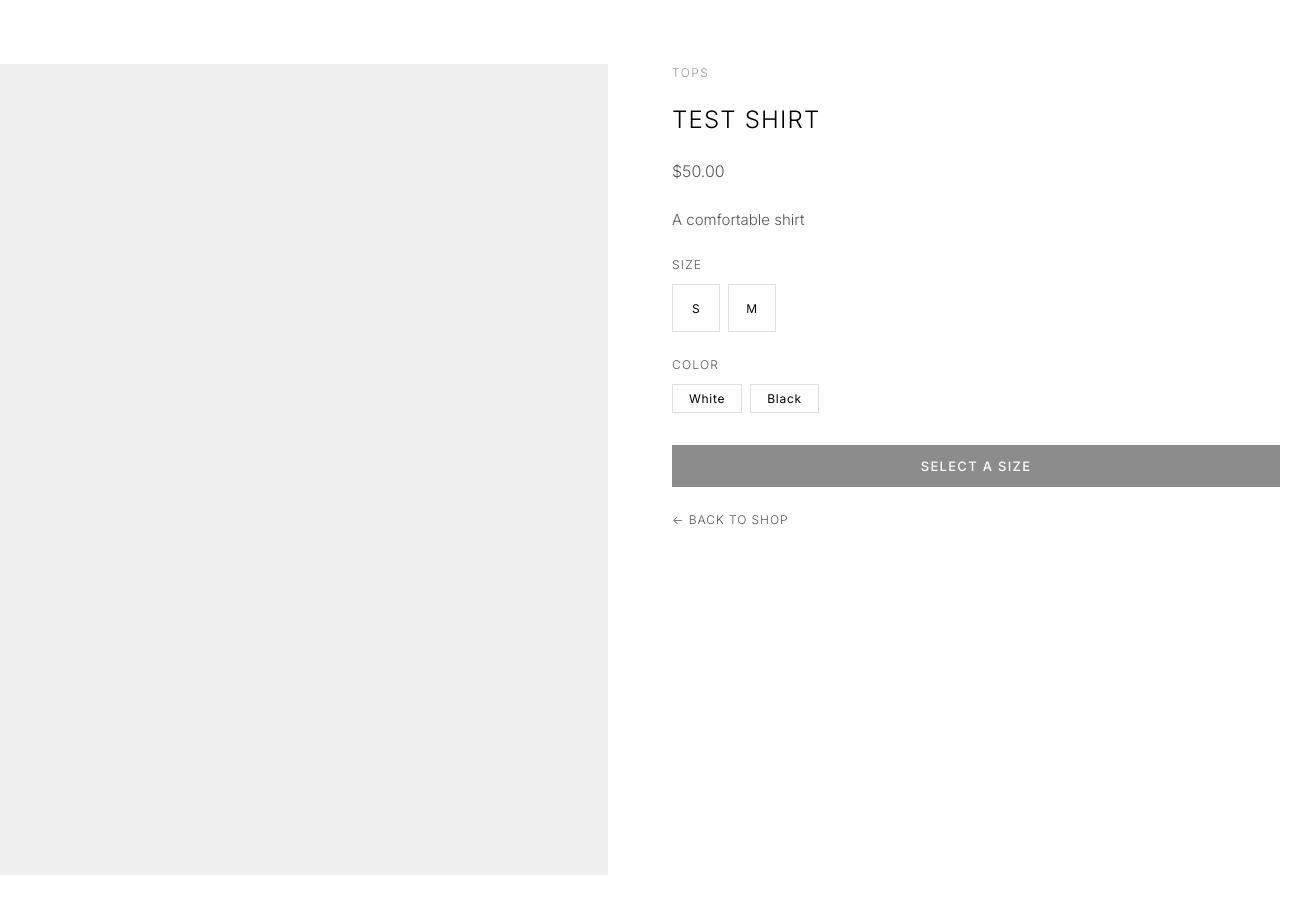
Test case: ProductDetail — add-to-cart button label › shows "Unavailable" when selected size+color combo is sold out
expect the heading "Test Shirt" is shown: met, box [672,105,820,134]
Click the button named "size s". click: (696, 308)
box: [672,284,720,332]
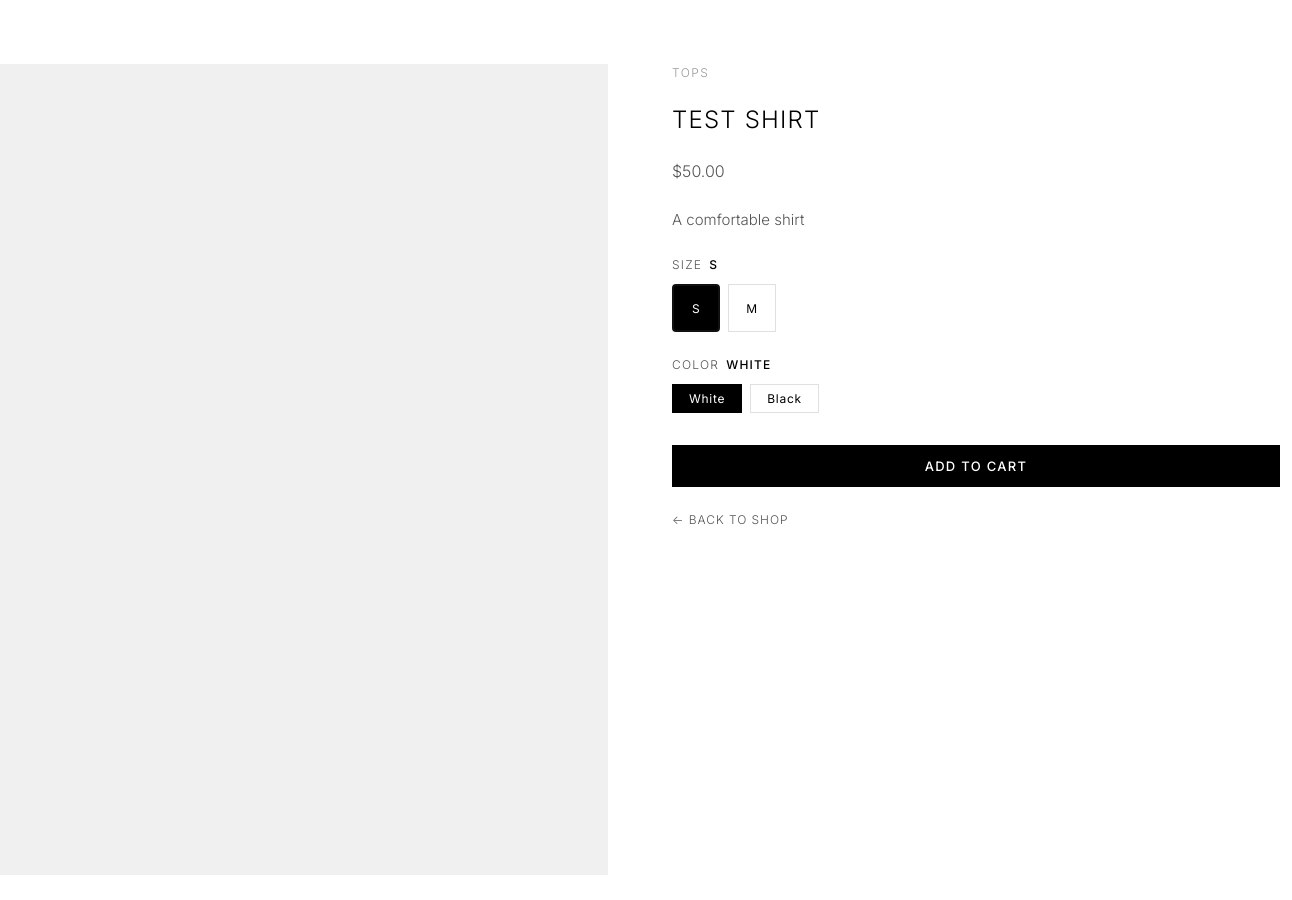
Click the button named "size m". click: (752, 308)
box: [728,284,776,332]
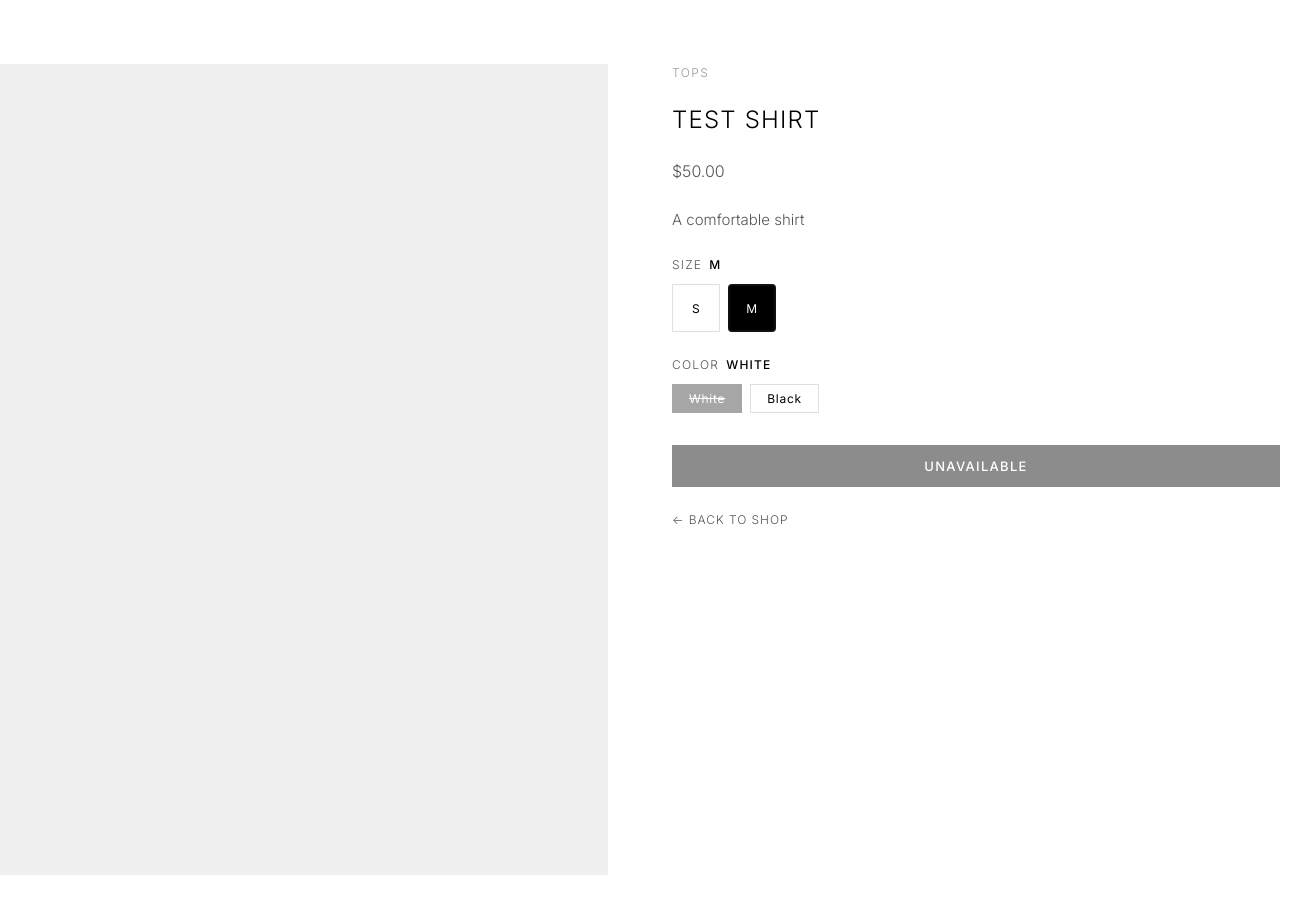
expect the button "Unavailable" is shown: met, box [672,445,1280,487]
